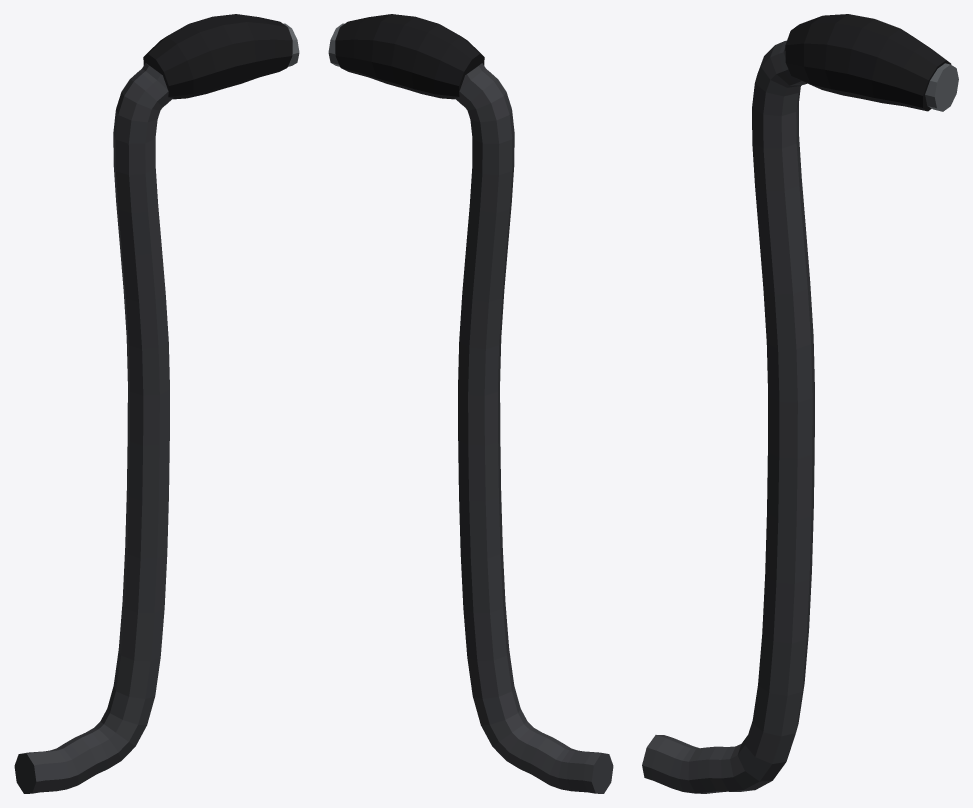
The model's file is MinidoracatTesla_CablePlugModelYL.fbx.
The picture shows the model from 3 angles, left to right: view 1: azimuth 30°, elevation 25°; view 2: azimuth 150°, elevation 25°; view 3: azimuth 330°, elevation 25°; orthographic projection. The views are drawn at different scales.
Visible parts, largest first — view 1: MinidoracatTesla_CablePlugModelYL; view 2: MinidoracatTesla_CablePlugModelYL; view 3: MinidoracatTesla_CablePlugModelYL.
Part boxes in pixels (<box>): MinidoracatTesla_CablePlugModelYL: <box>14,14,299,793</box>; MinidoracatTesla_CablePlugModelYL: <box>328,14,613,793</box>; MinidoracatTesla_CablePlugModelYL: <box>642,14,958,793</box>.
Bounding box in the file's own units: 0.3639 × 0.9593 × 0.088.
